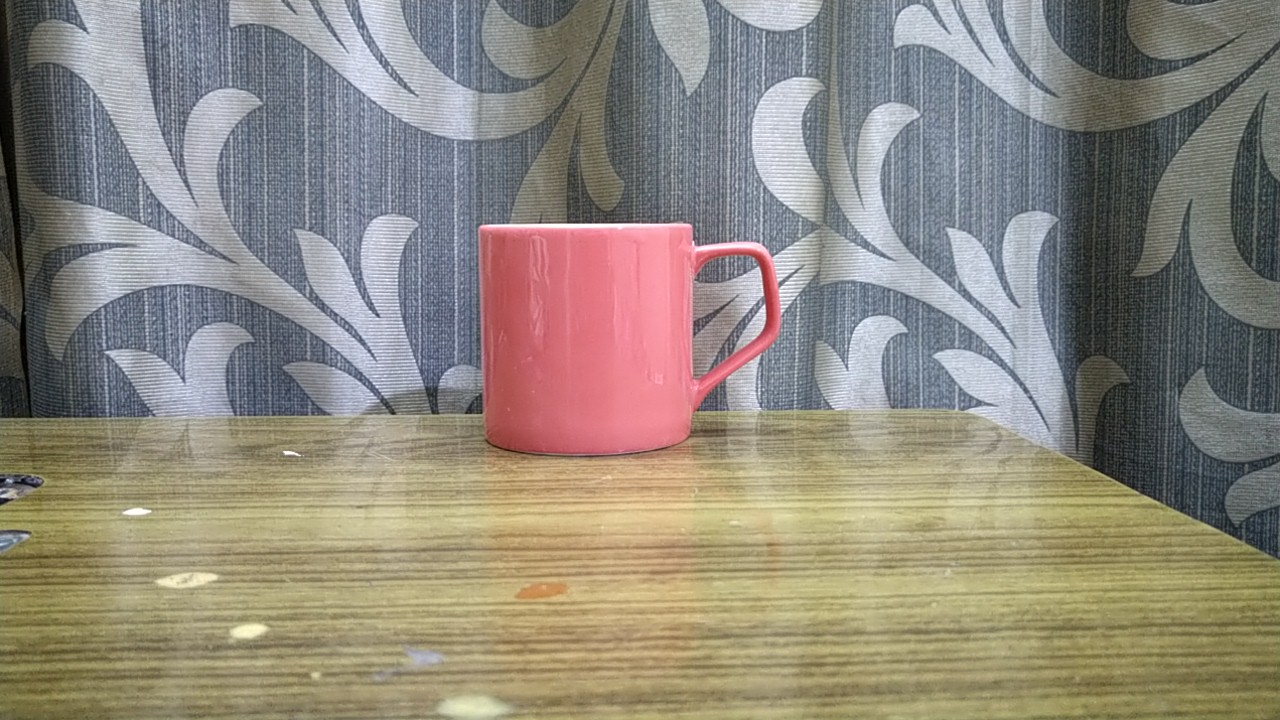cup: (468, 217, 785, 466)
